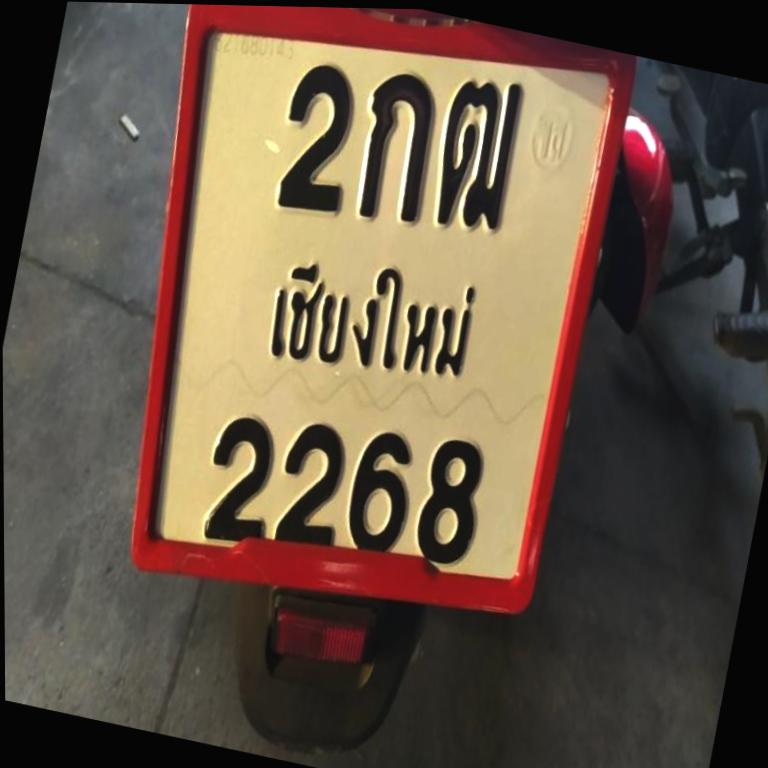license plate: (80, 2, 662, 663)
